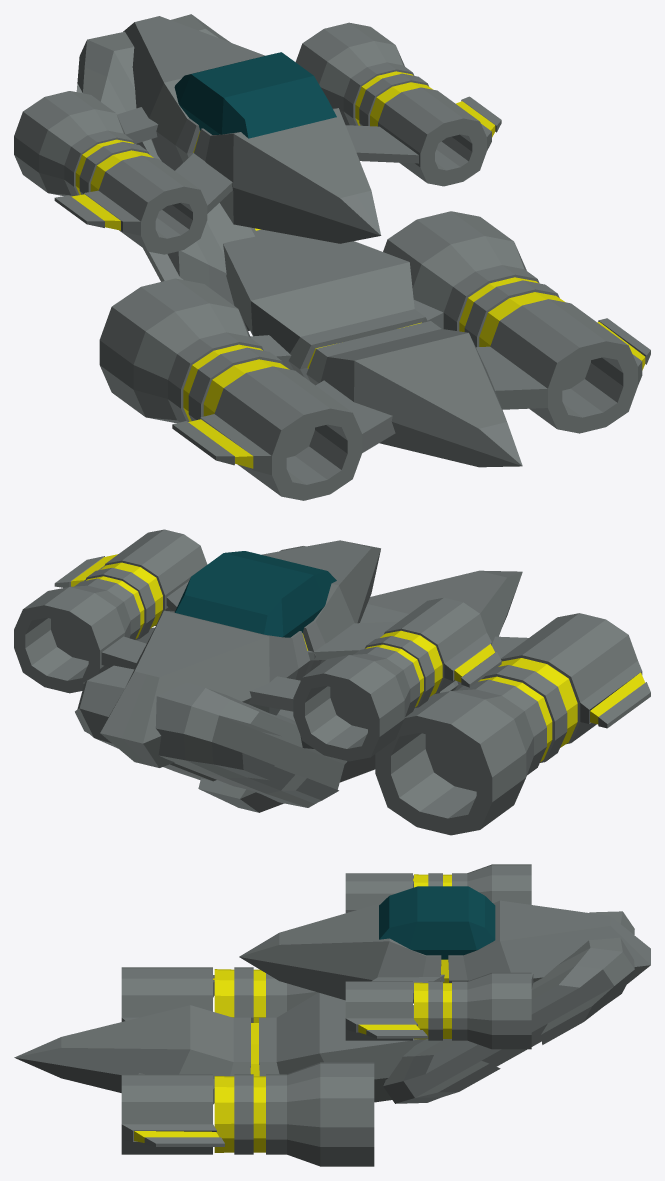
The model's file is spaceship_5.fbx.
3 renders of one model, top to bottom at view 1: azimuth 30°, elevation 25°; view 2: azimuth 150°, elevation 25°; view 3: azimuth 270°, elevation 25°, orthographic. The views are drawn at different scales.
Parts seen in each view (by area): view 1: spaceship.004; view 2: spaceship.004; view 3: spaceship.004.
Boxes of the visible parts, x1,y1,x2,y2 form: spaceship.004: (14, 14, 650, 500); spaceship.004: (14, 529, 650, 835); spaceship.004: (14, 864, 650, 1166).
Bounding box in the file's own units: 548 × 305 × 876.
